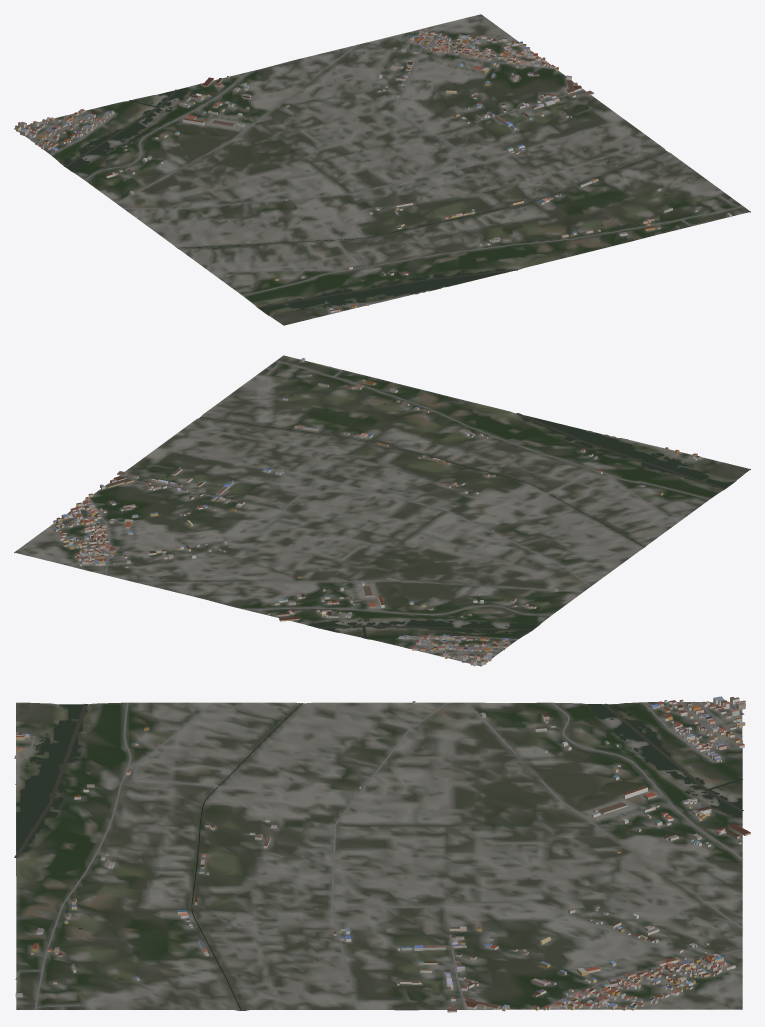
3 views of the same model, one above another, from view 1: azimuth 30°, elevation 25°; view 2: azimuth 150°, elevation 25°; view 3: azimuth 270°, elevation 25° (orthographic). The views are drawn at different scales.
Parts seen in each view (by area): view 1: ground, buildings, water, roads; view 2: ground, buildings, water, roads; view 3: ground, buildings, water, roads.
Part boxes in pixels (x1,y1,x2,y2): ground: (14,14,750,325); buildings: (15,30,731,312); water: (63,87,667,314); roads: (19,33,743,314); ground: (14,355,750,666); buildings: (53,358,700,666); water: (200,403,734,638); roads: (51,360,709,662); ground: (16,702,742,1010); buildings: (14,696,750,1012); water: (14,703,743,1010); roads: (15,701,744,1009).
Bounding box in the file's own units: 1419 × 17.97 × 1422.
